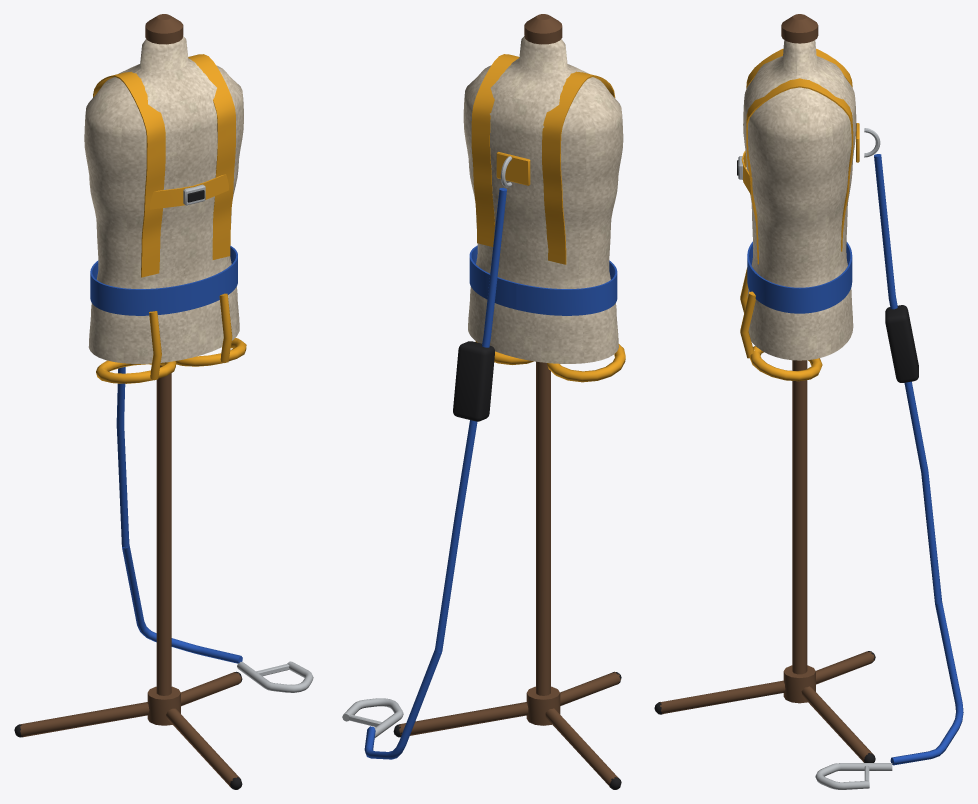
The model's file is fall-arrest-harness.glb.
3 renders of one model, left to right at view 1: azimuth 30°, elevation 25°; view 2: azimuth 150°, elevation 25°; view 3: azimuth 270°, elevation 25°, orthographic. The views are drawn at different scales.
Visible parts, largest first — view 1: Fall_Arrest_Harness; view 2: Fall_Arrest_Harness; view 3: Fall_Arrest_Harness.
Part boxes in pixels (box(x1,y1,x2,y2)): Fall_Arrest_Harness: box(14, 14, 313, 789); Fall_Arrest_Harness: box(342, 14, 625, 789); Fall_Arrest_Harness: box(654, 14, 963, 789).
Bounding box in the file's own units: 0.6807 × 1.66 × 0.6678.
Materials: 6 (1 with a texture image).
